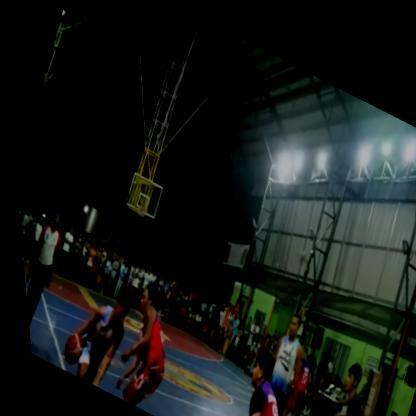basketball: (50, 324, 85, 370)
rim: (126, 194, 148, 225)
